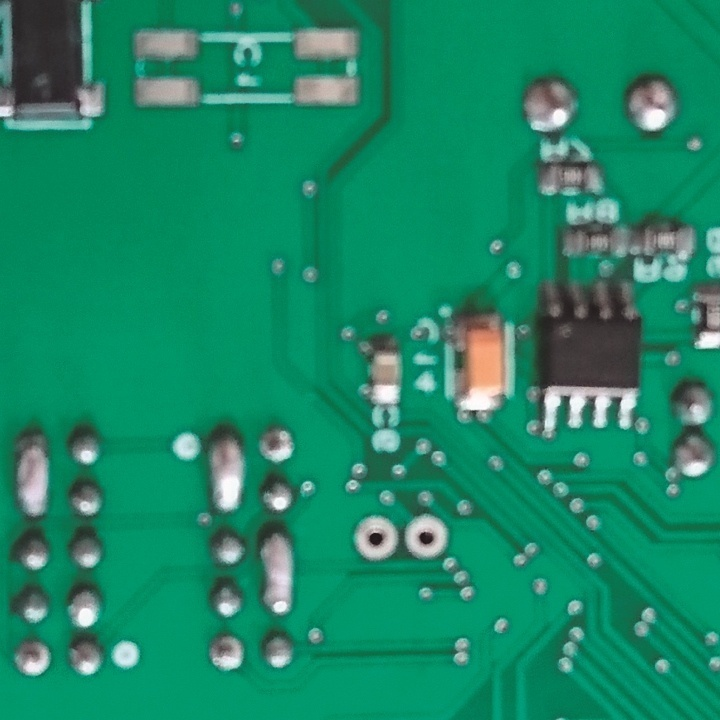F: (348, 512, 402, 562), (402, 510, 447, 565), (11, 640, 56, 682), (258, 424, 296, 468), (207, 630, 246, 672)
P: (11, 428, 55, 518), (258, 523, 296, 622), (206, 422, 245, 518)
